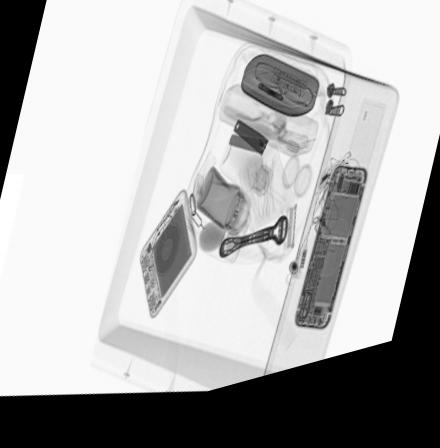Powerbank: (140, 197, 199, 327)
